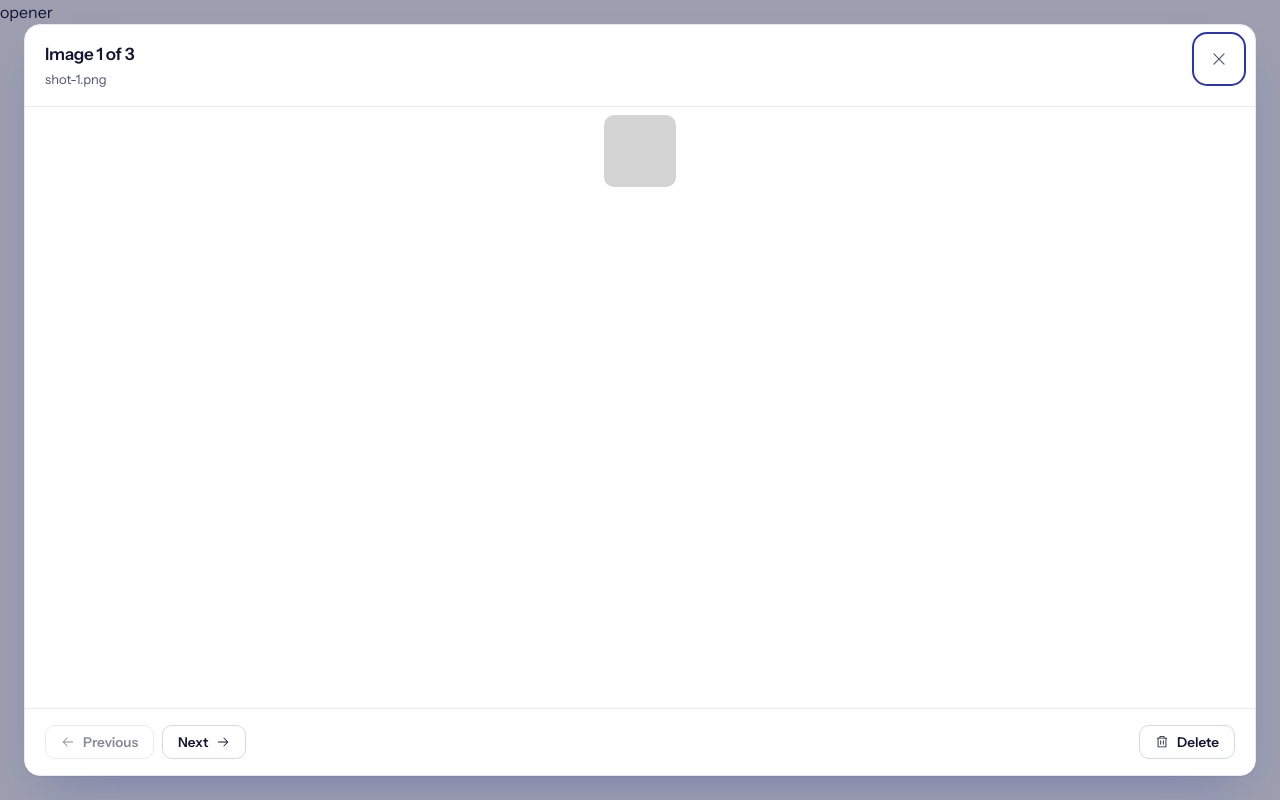
Test case: deleting one of several keeps counting what is left
Click the button "Delete" at [1187, 742], box top-left (1139, 725), bottom-right (1235, 759)
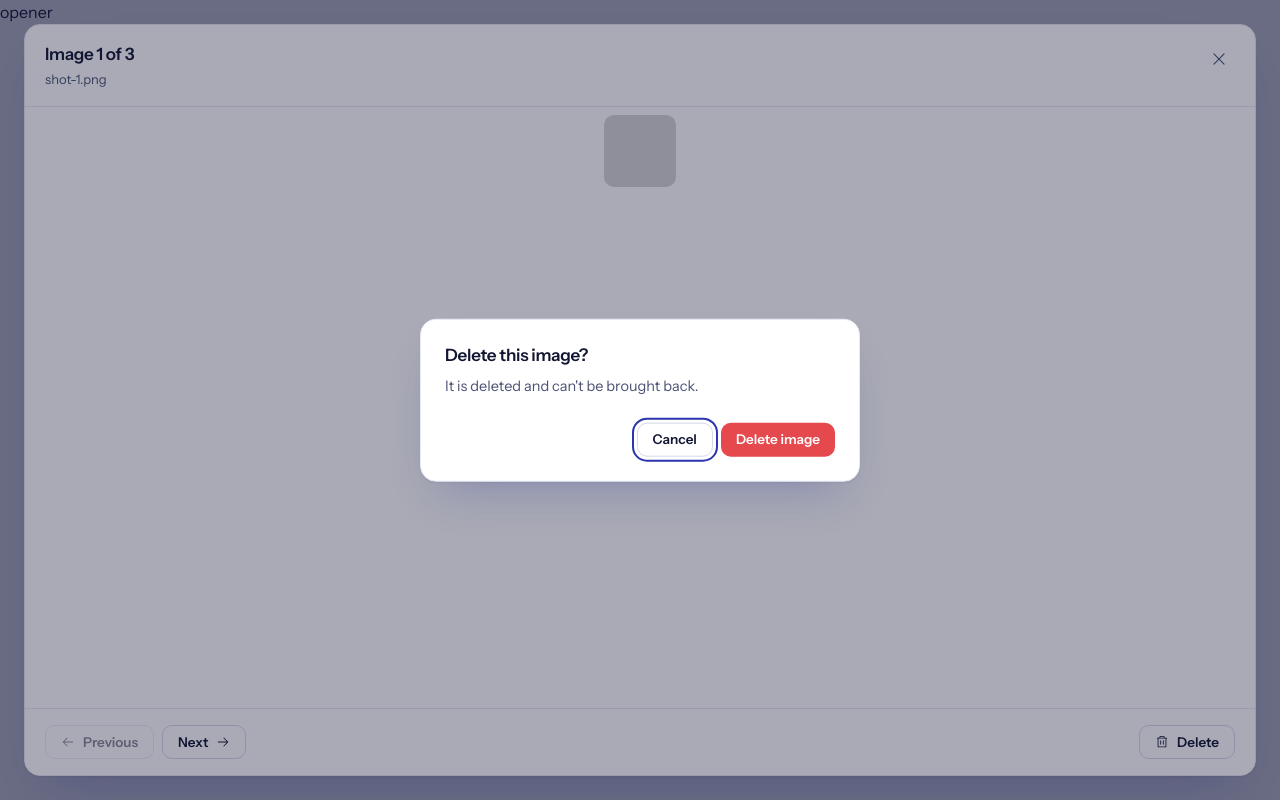
Click the button "Delete image" at [778, 439], box top-left (721, 422), bottom-right (835, 456)
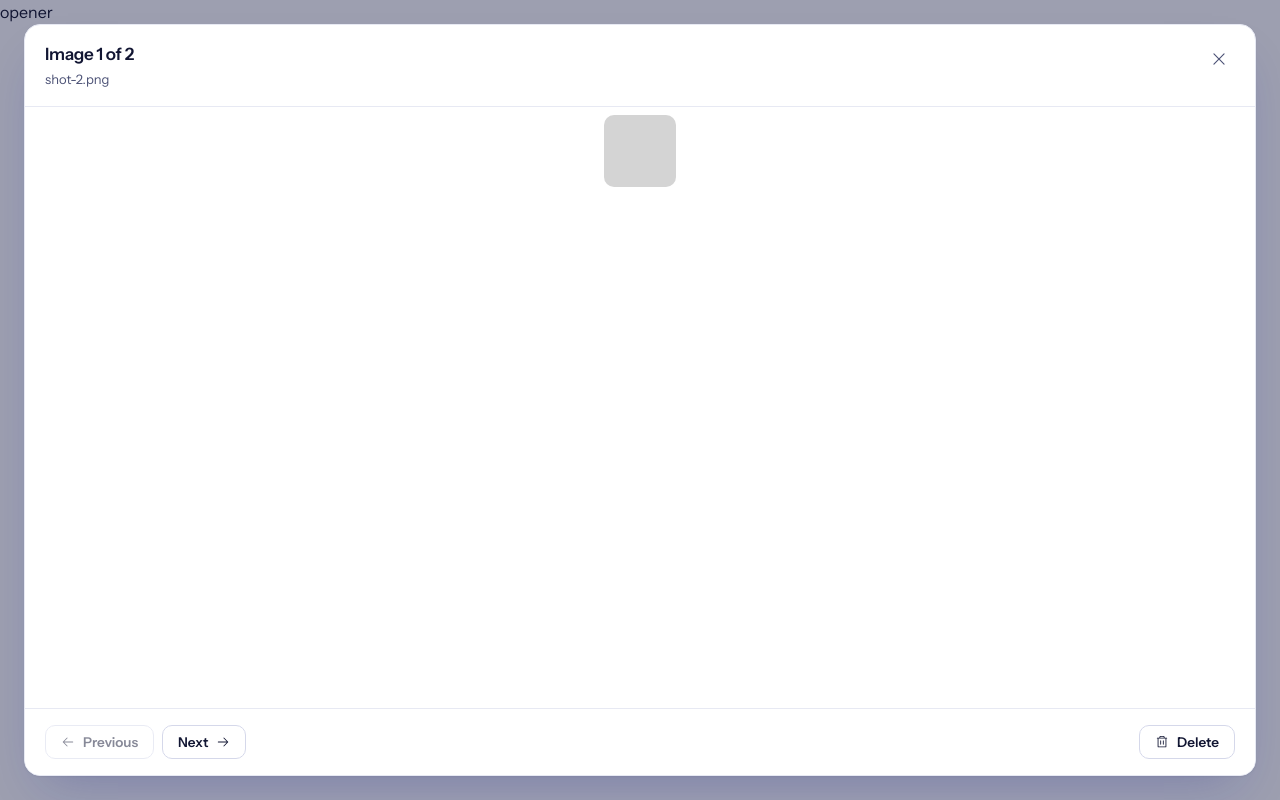
Result: the heading "Delete this image?" is gone
Result: the dialog "Image 1 of 2" is shown
Result: the dialog shows "shot-2.png" at top-left (45, 71), bottom-right (110, 87)
